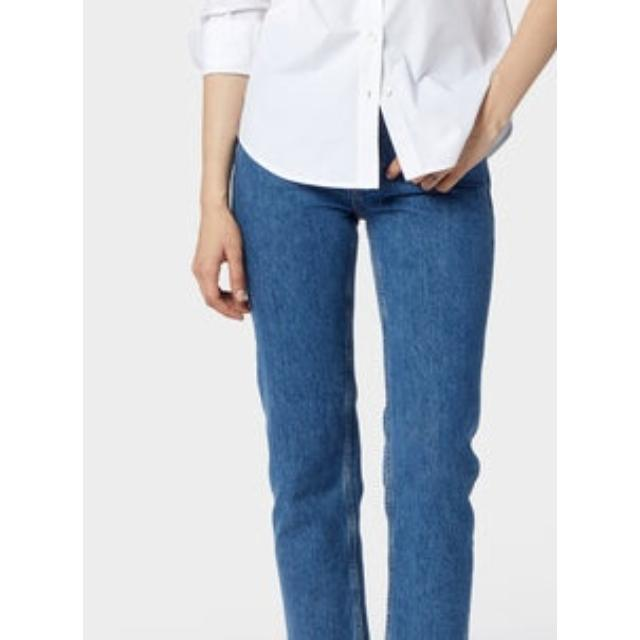cotton: (227, 0, 557, 172)
